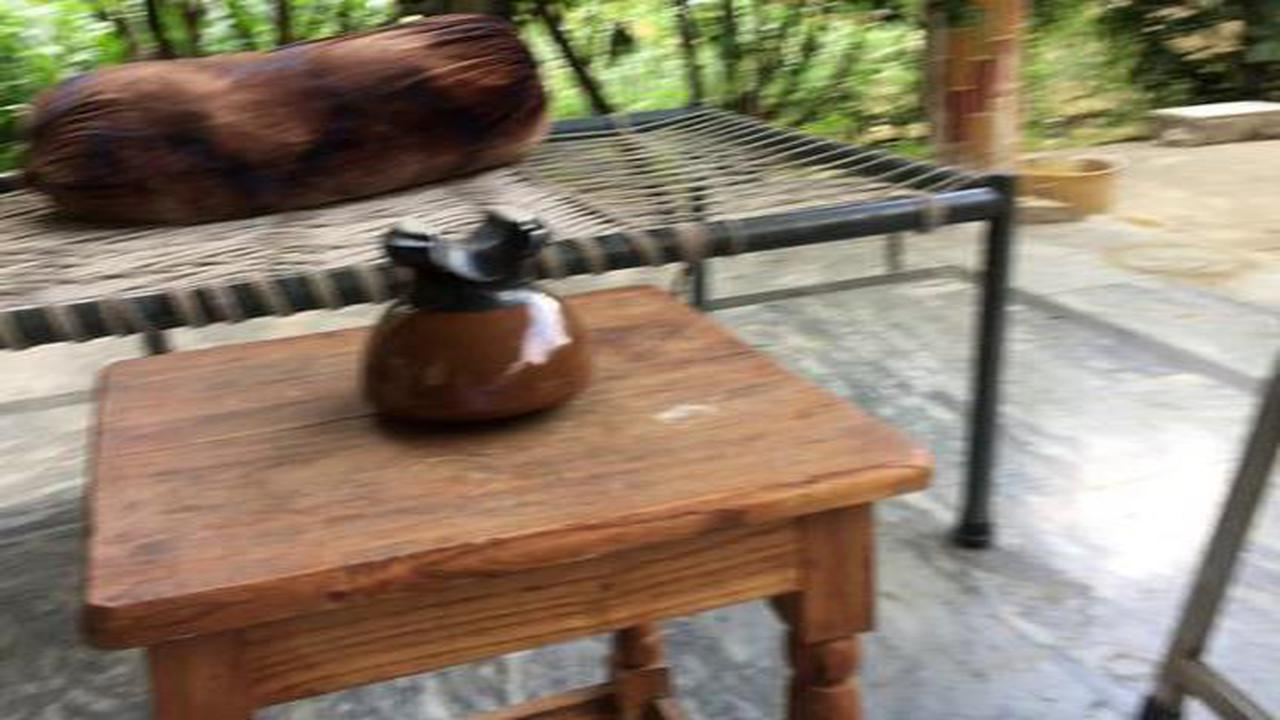insulator_pin: (339, 198, 616, 444)
